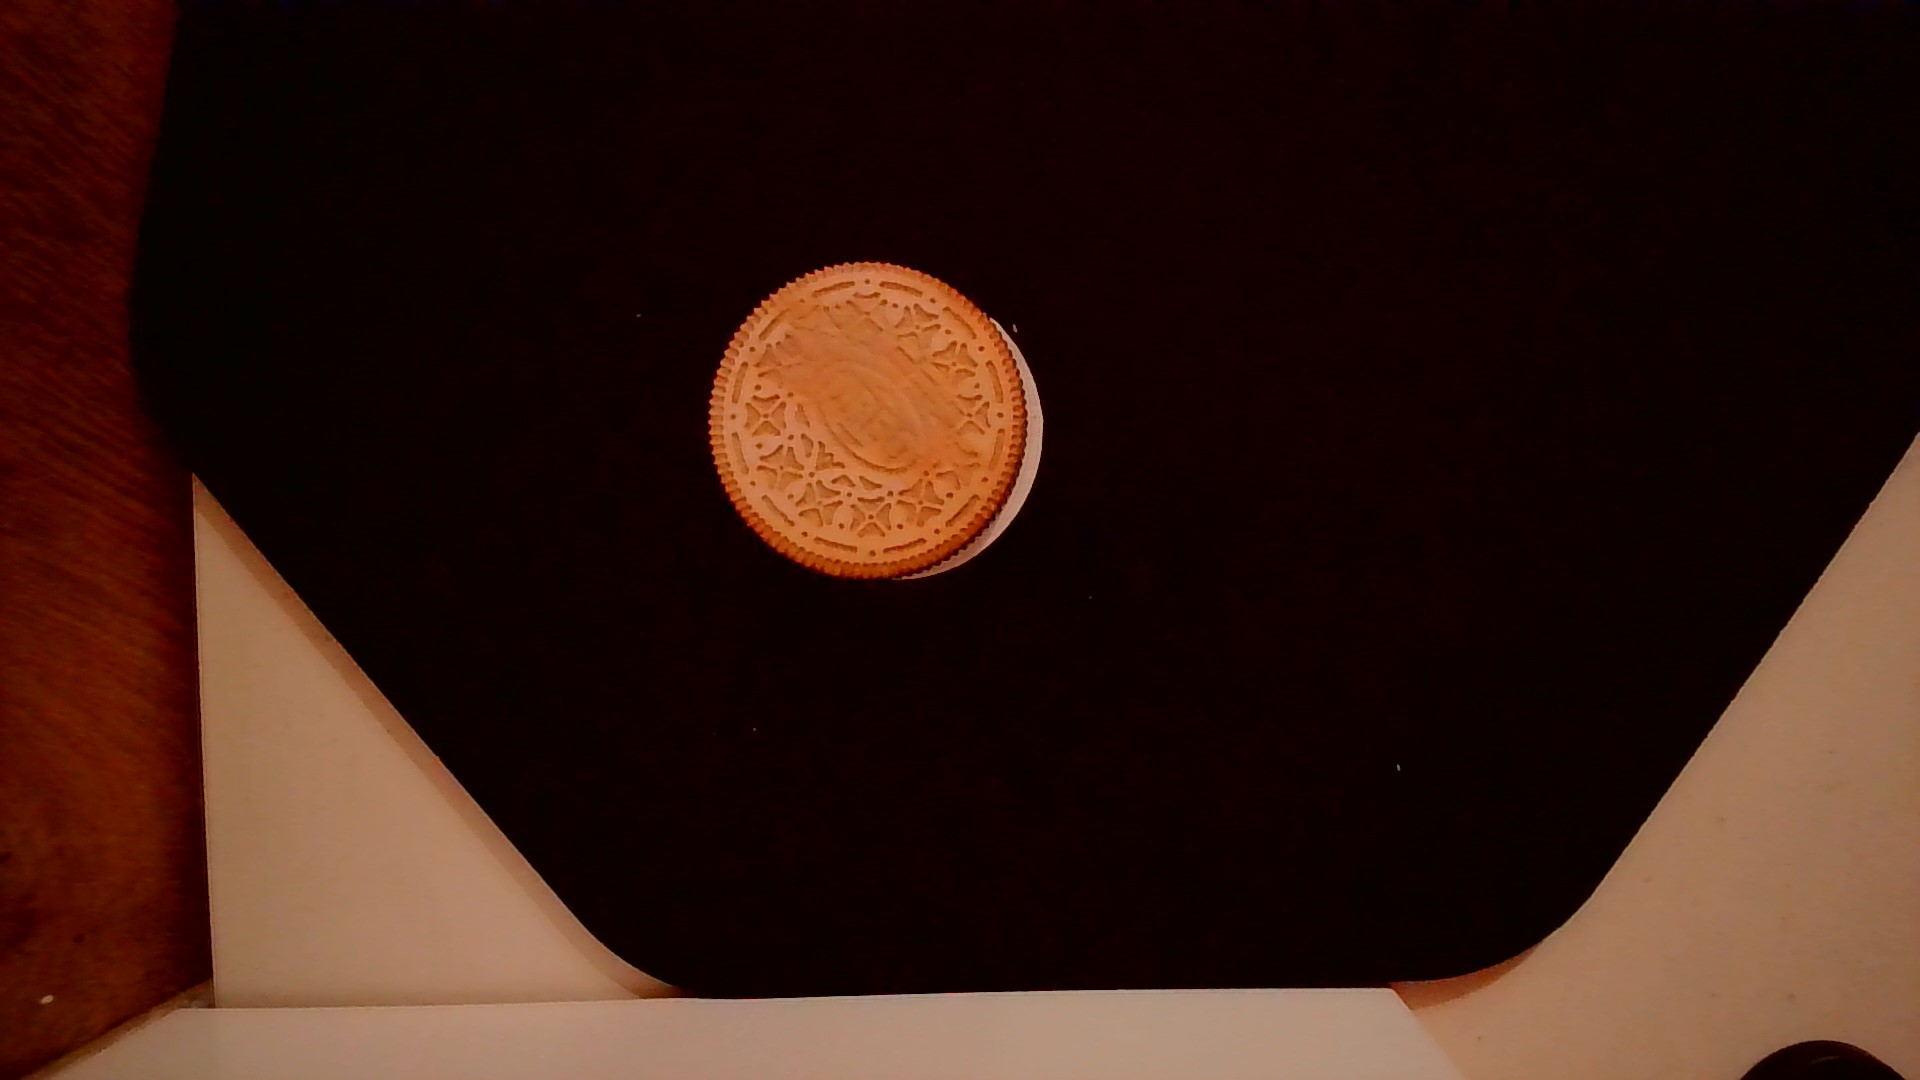Décalé: (894, 303, 1052, 599)
Effacé: (760, 294, 971, 489)
Oréo: (700, 251, 1034, 593)
